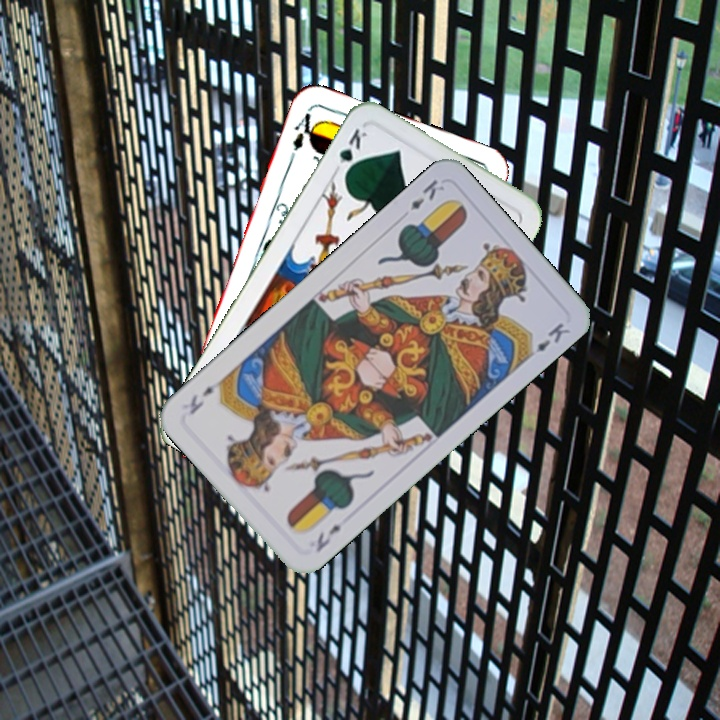EA: (286, 104, 321, 162)
EK: (406, 175, 447, 213), (311, 520, 344, 555)
GK: (335, 125, 370, 180)
